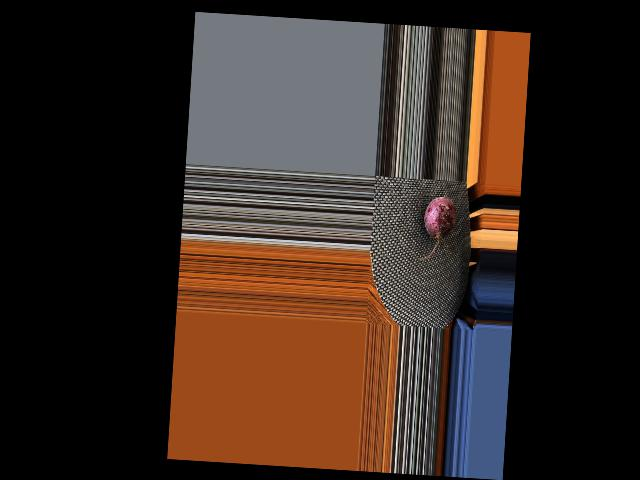beet: (418, 195, 457, 262)
